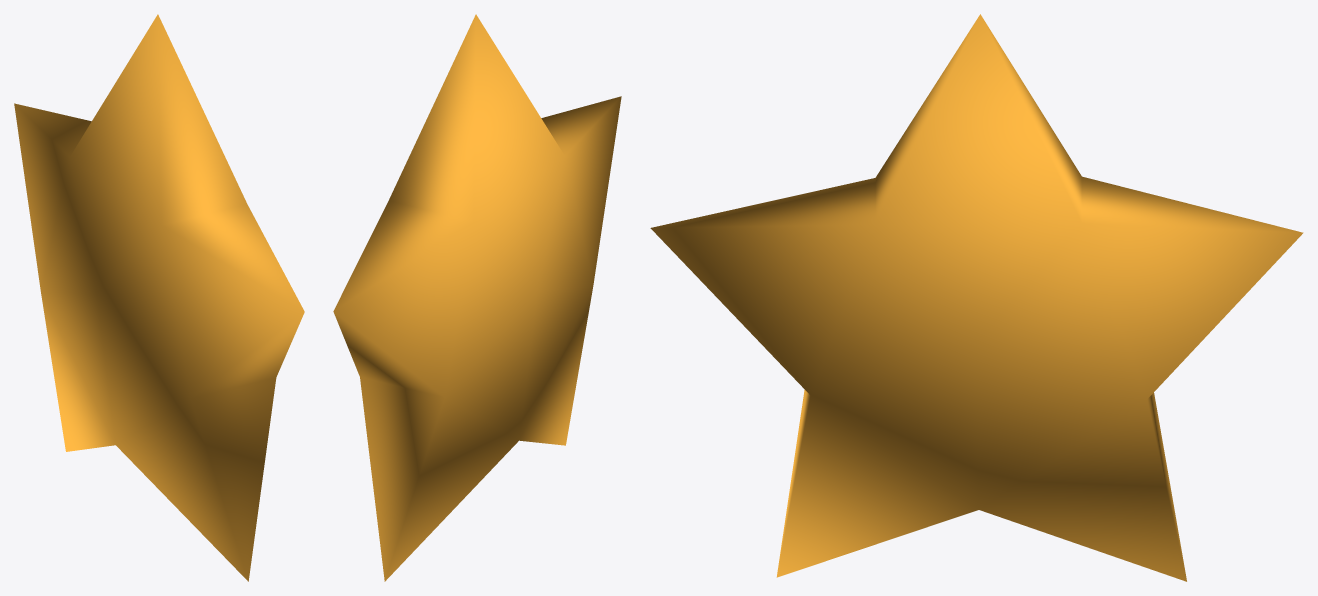
File: stella.fbx
3 renders of one model, left to right at view 1: azimuth 30°, elevation 25°; view 2: azimuth 150°, elevation 25°; view 3: azimuth 270°, elevation 25°, orthographic. The views are drawn at different scales.
Parts seen in each view (by area): view 1: Cube.036; view 2: Cube.036; view 3: Cube.036.
Part boxes in pixels (x1,y1,x2,y2): Cube.036: (14, 14, 304, 581); Cube.036: (333, 14, 621, 581); Cube.036: (650, 14, 1303, 581).
Size of the model in its own units: 120 by 470 by 490.
